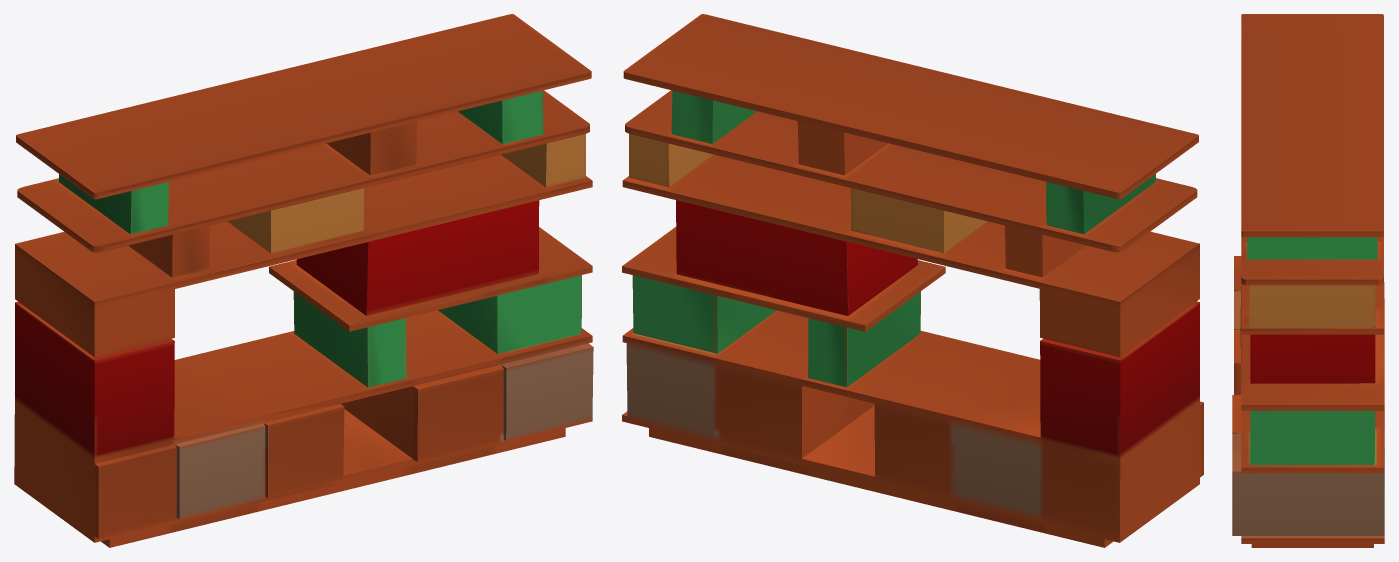
Rendered from SM_BigShelf.fbx.
The picture shows the model from 3 angles, left to right: view 1: azimuth 30°, elevation 25°; view 2: azimuth 150°, elevation 25°; view 3: azimuth 270°, elevation 25°; orthographic projection. The views are drawn at different scales.
Parts seen in each view (by area): view 1: SHELF.004; view 2: SHELF.004; view 3: SHELF.004.
Boxes of the visible parts, box(x1,y1,x2,y2) form: SHELF.004: box(14, 14, 593, 547); SHELF.004: box(622, 14, 1203, 547); SHELF.004: box(1232, 14, 1384, 547).
Bounding box in the file's own units: 289 × 202 × 85.56.
